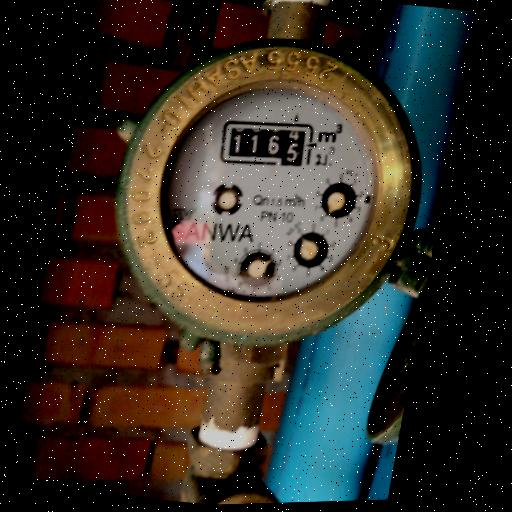1: (226, 126, 248, 158), (243, 127, 264, 158)
5: (279, 129, 305, 167)
6: (262, 127, 284, 159)
border_water_meter_number: (215, 113, 321, 174)
